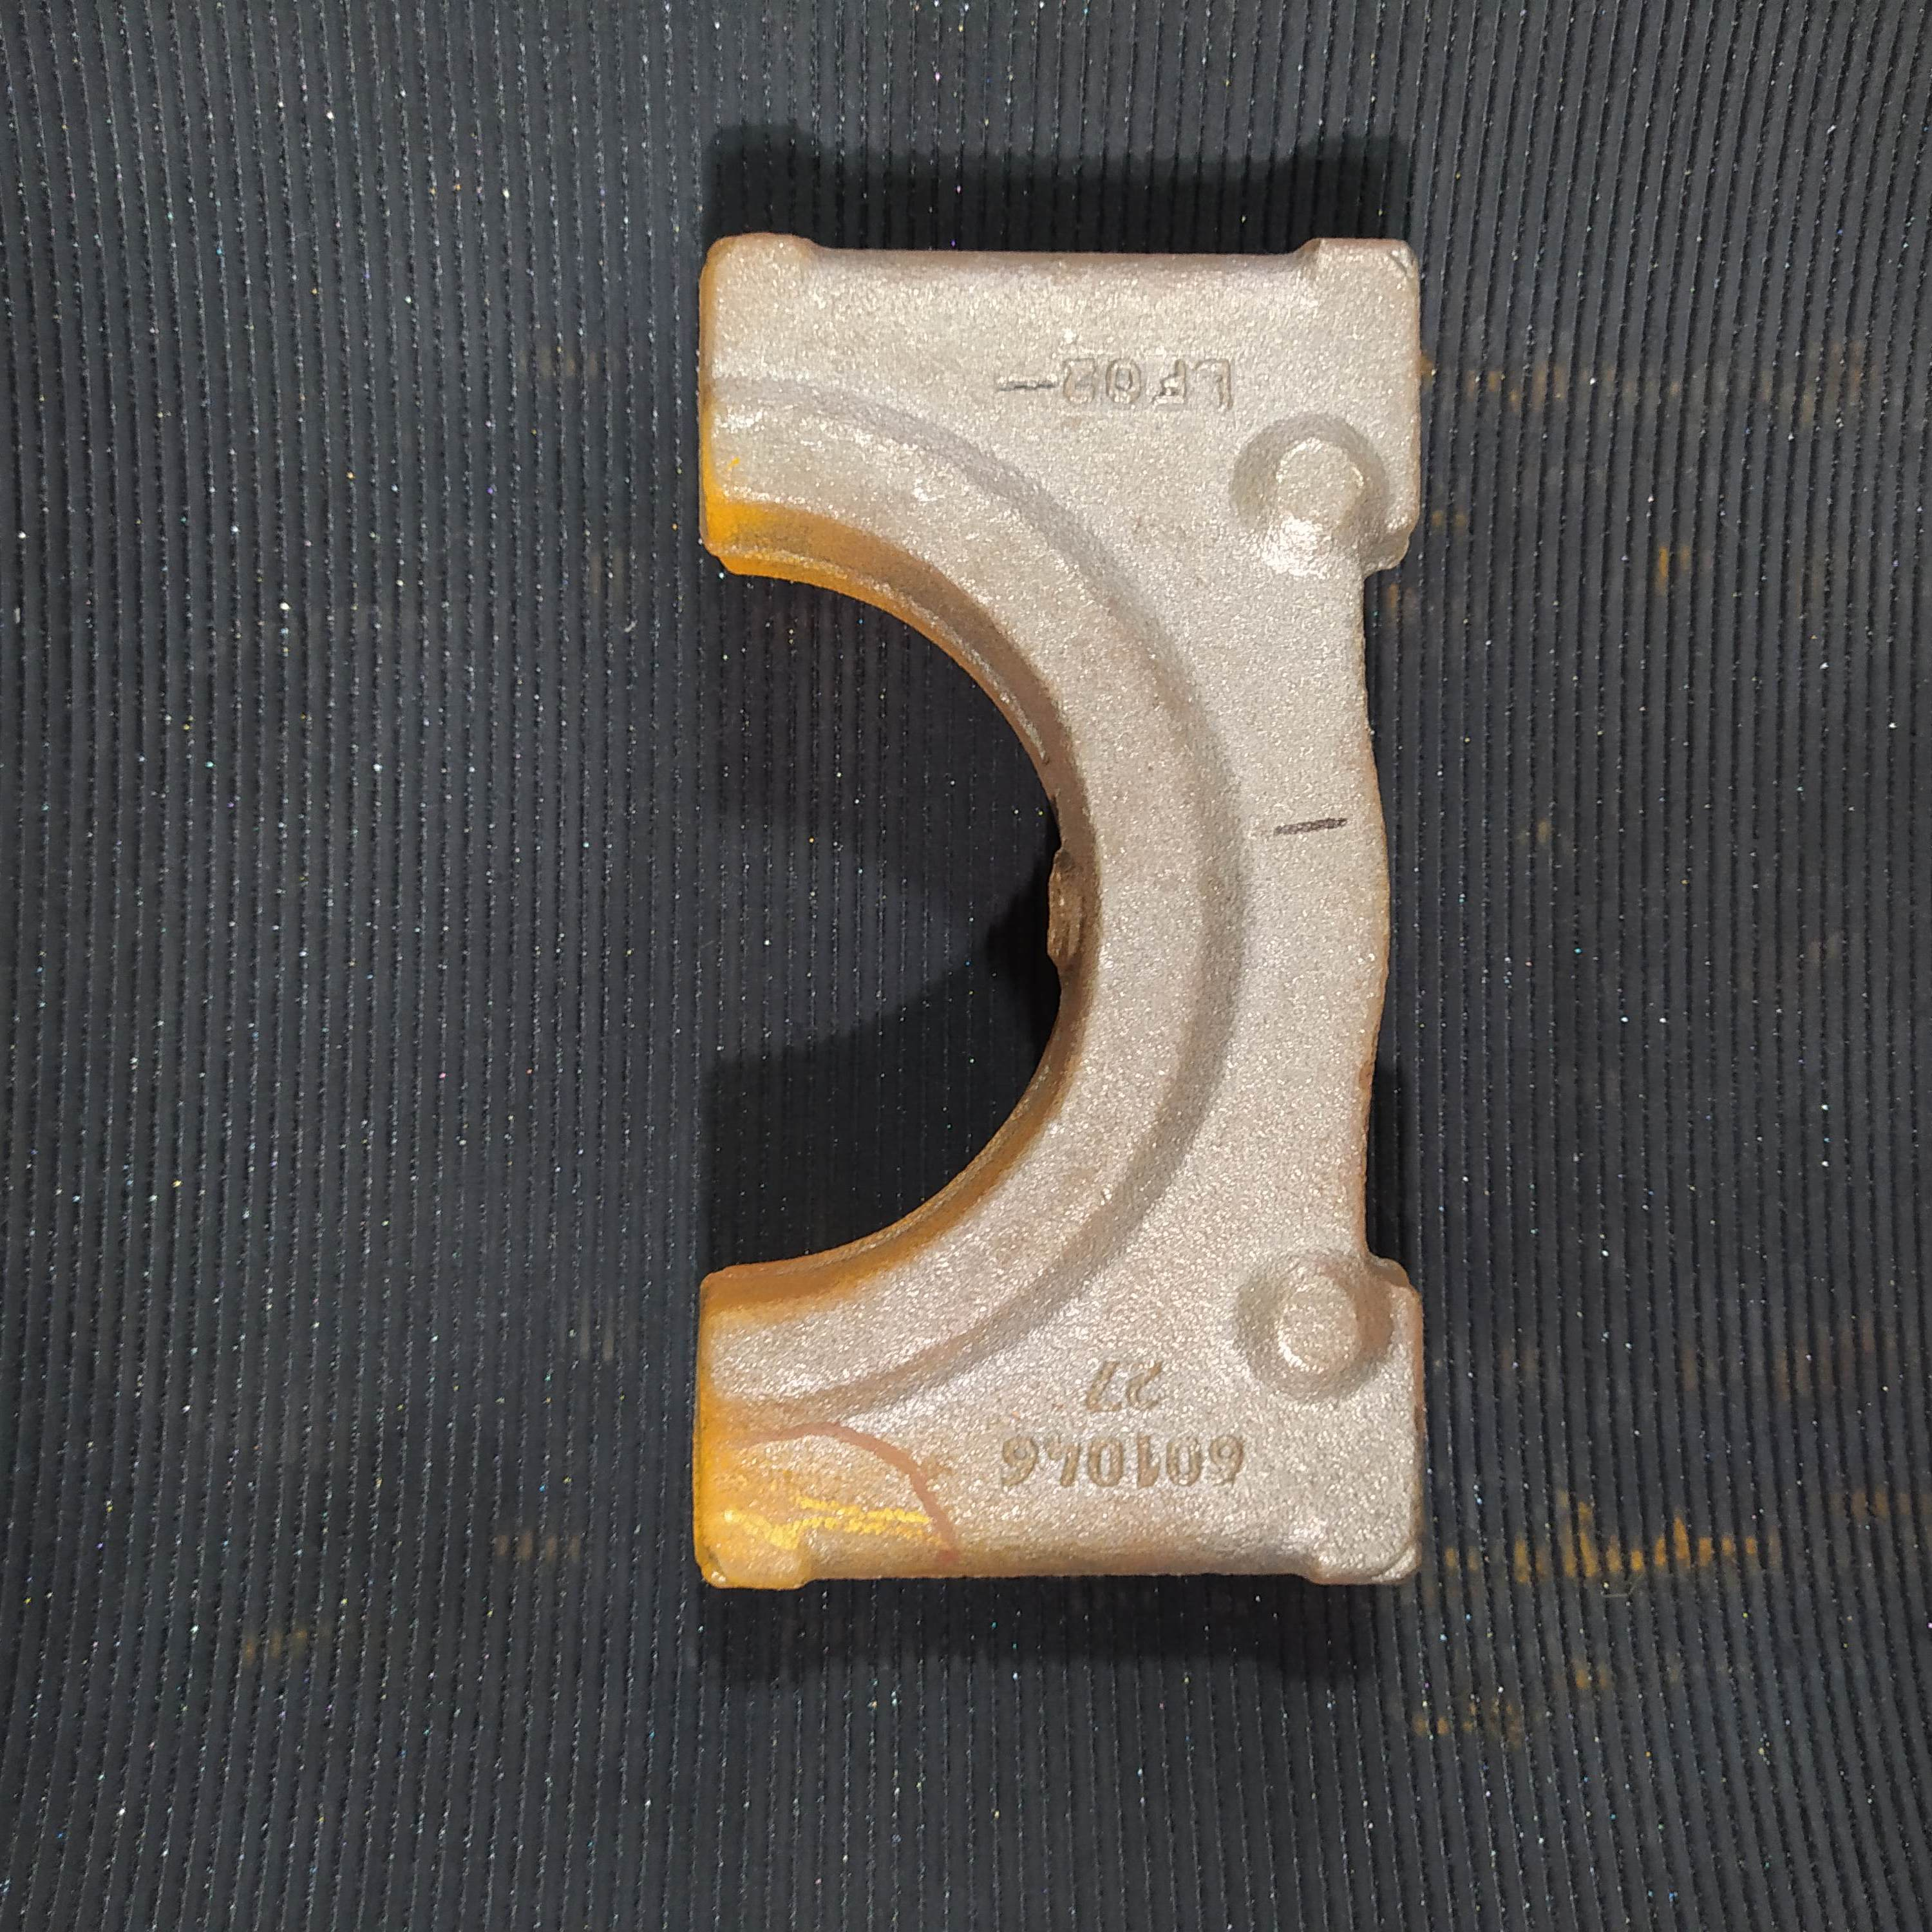rechupe: (1368, 1534, 1417, 1582), (1380, 241, 1415, 280)
